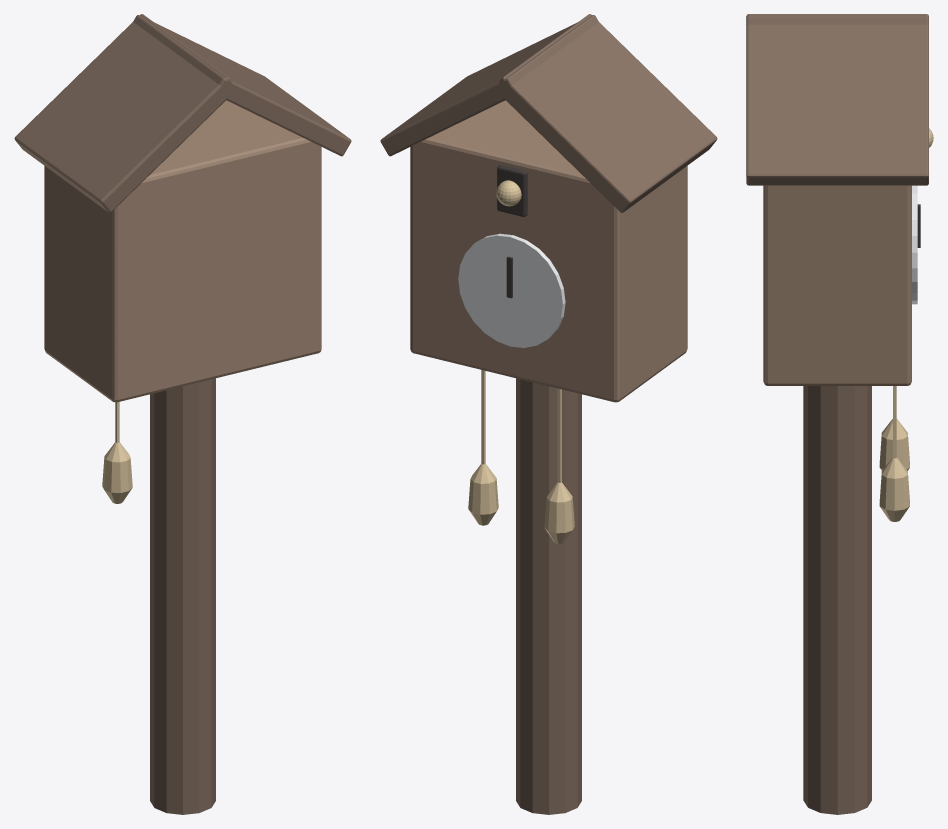
The model's file is CuckooClock.glb.
3 renders of one model, left to right at view 1: azimuth 30°, elevation 25°; view 2: azimuth 150°, elevation 25°; view 3: azimuth 270°, elevation 25°, orthographic. The views are drawn at different scales.
Parts seen in each view (by area): view 1: CuckooClock_Wood, CuckooClock_DarkWood, CuckooClock_Brass; view 2: CuckooClock_DarkWood, CuckooClock_Wood, CuckooClock_Porcelain, CuckooClock_Brass, CuckooClock_Black; view 3: CuckooClock_DarkWood, CuckooClock_Wood, CuckooClock_Brass, CuckooClock_Porcelain.
Part boxes in pixels (x1=…): CuckooClock_Wood: x1=44, y1=100, x2=321, y2=402; CuckooClock_DarkWood: x1=14, y1=14, x2=351, y2=814; CuckooClock_Brass: x1=102, y1=402, x2=132, y2=503; CuckooClock_DarkWood: x1=380, y1=14, x2=717, y2=814; CuckooClock_Wood: x1=410, y1=100, x2=687, y2=402; CuckooClock_Porcelain: x1=458, y1=233, x2=565, y2=347; CuckooClock_Brass: x1=468, y1=180, x2=574, y2=543; CuckooClock_Black: x1=497, y1=165, x2=527, y2=298; CuckooClock_DarkWood: x1=746, y1=14, x2=928, y2=814; CuckooClock_Wood: x1=763, y1=185, x2=911, y2=385; CuckooClock_Brass: x1=879, y1=128, x2=933, y2=521; CuckooClock_Porcelain: x1=912, y1=185, x2=917, y2=304.
Size of the model in its own units: 2.64 by 7.59 by 1.64.
